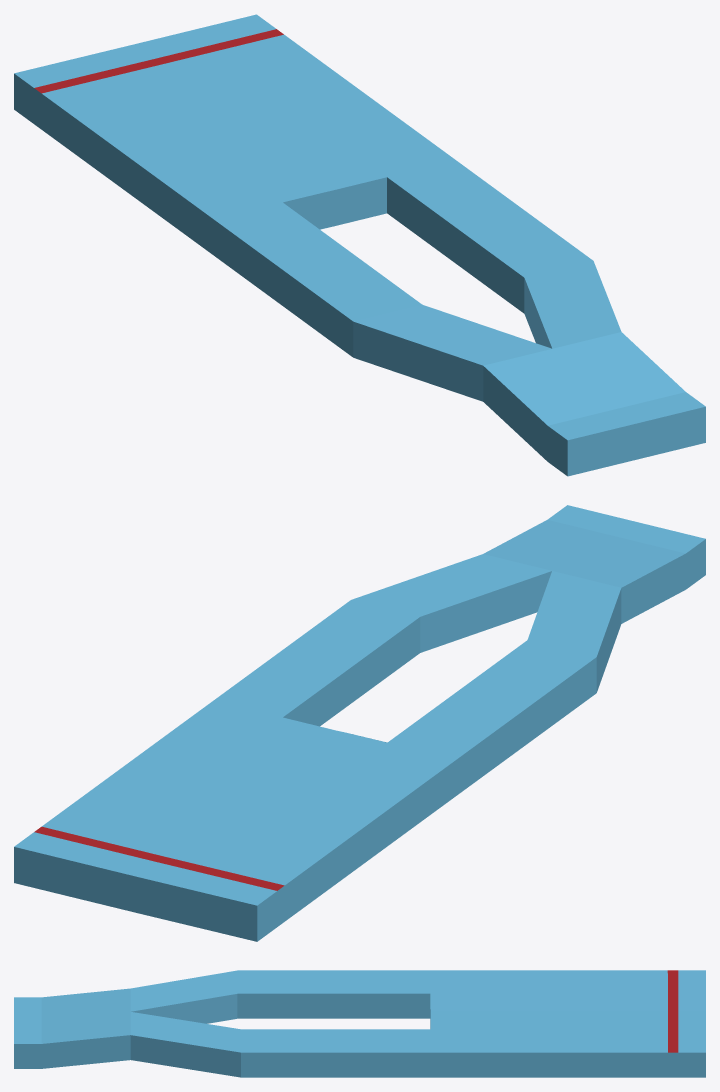
Rendered from map2.fbx.
The picture shows the model from 3 angles, top to bottom: view 1: azimuth 30°, elevation 25°; view 2: azimuth 150°, elevation 25°; view 3: azimuth 270°, elevation 25°; orthographic projection. The views are drawn at different scales.
Visible parts, largest first — view 1: Cube; view 2: Cube; view 3: Cube.
Part boxes in pixels (x1,y1,x2,y2): Cube: (14,14,705,476); Cube: (14,505,705,941); Cube: (14,970,705,1077).
Size of the model in its own units: 1406 by 273 by 5019.
